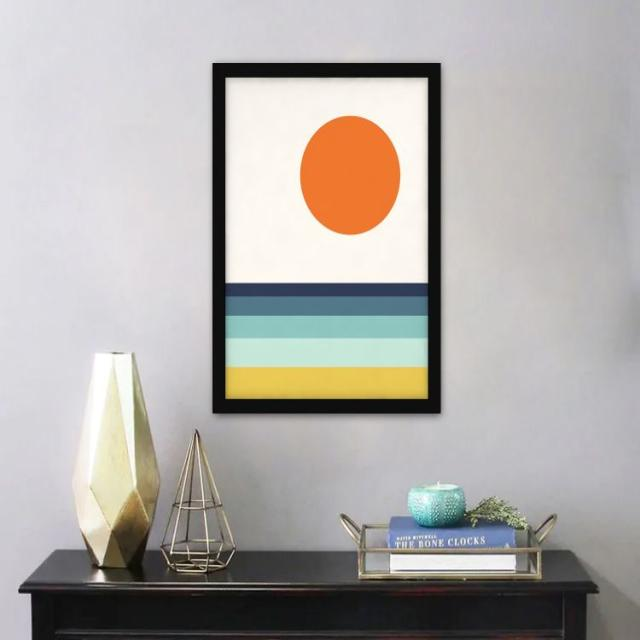painting: (212, 62, 442, 415)
